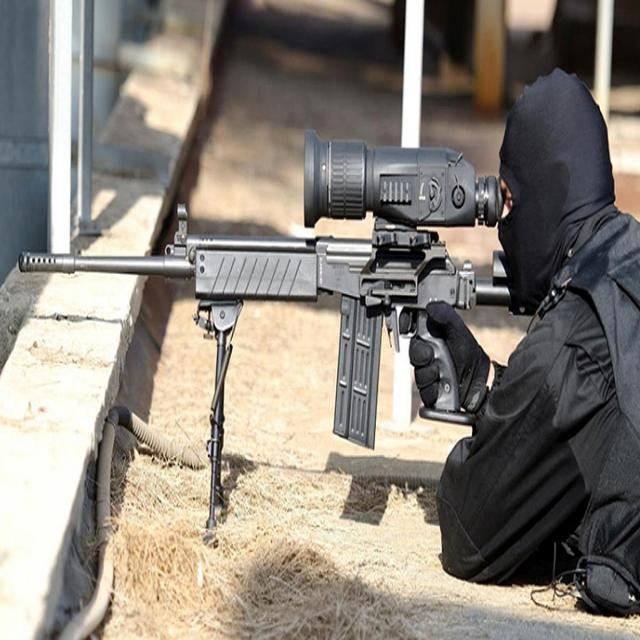scope: (300, 130, 502, 234)
sniper rifle: (10, 121, 495, 504)
